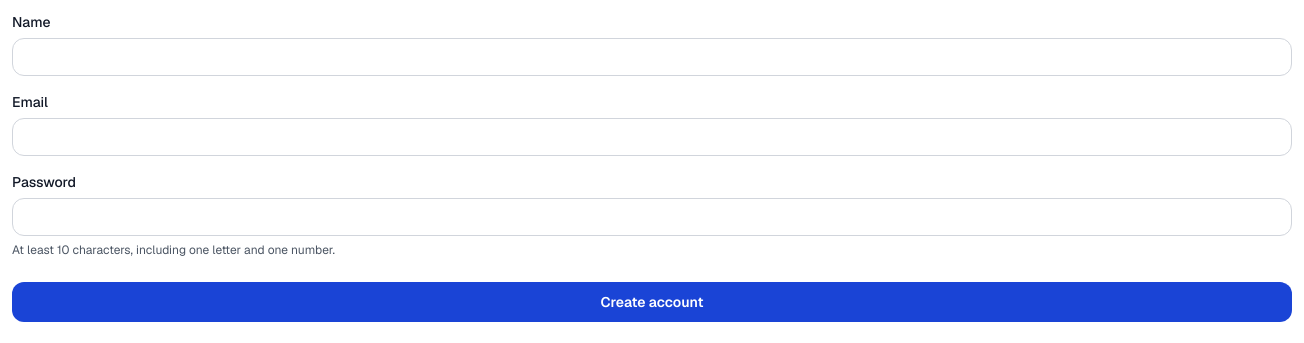
Test: RegisterForm › AC37: blocks submission and shows field errors when the password is too weak
The image size is (1304, 343).
Type "Ada Lovelace" into the field labelled "Name" at (652, 57), box [12, 38, 1292, 76]
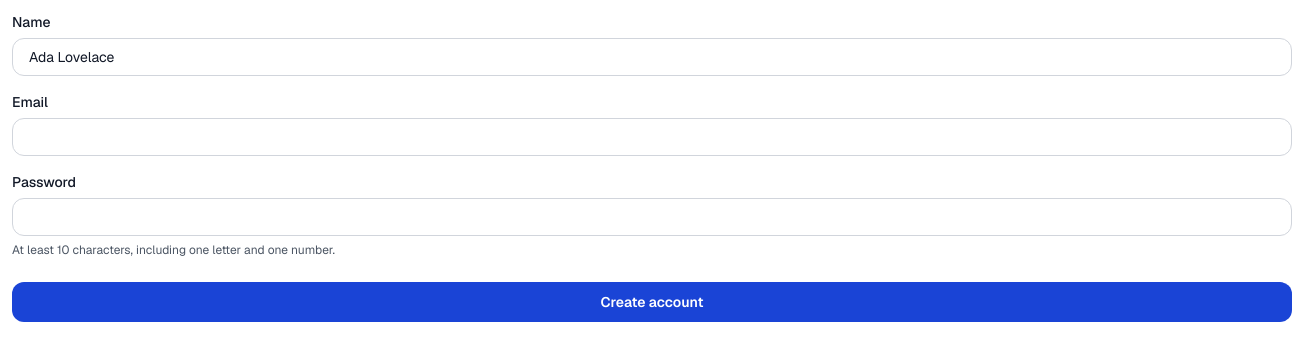
Type "ada@example.com" into the field labelled "Email" at (652, 137), box [12, 118, 1292, 156]
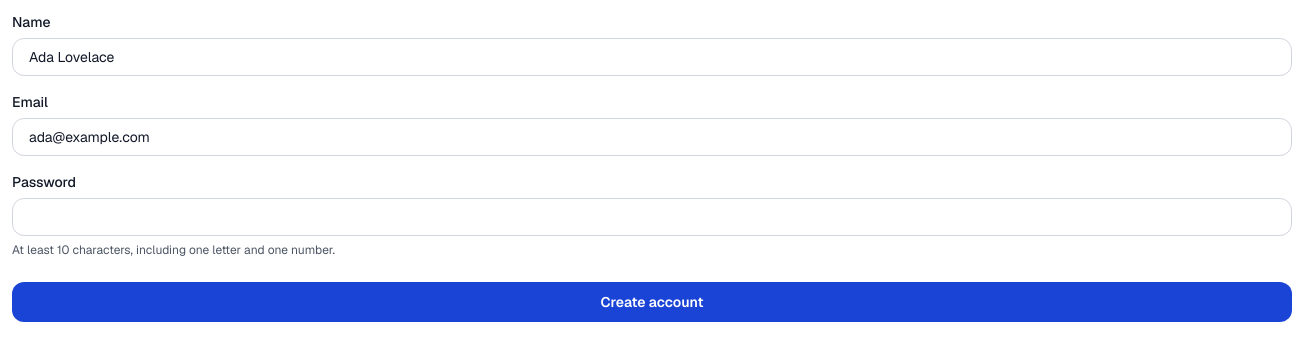
Type "short" into the password field labelled "Password" at (652, 217), box [12, 198, 1292, 236]
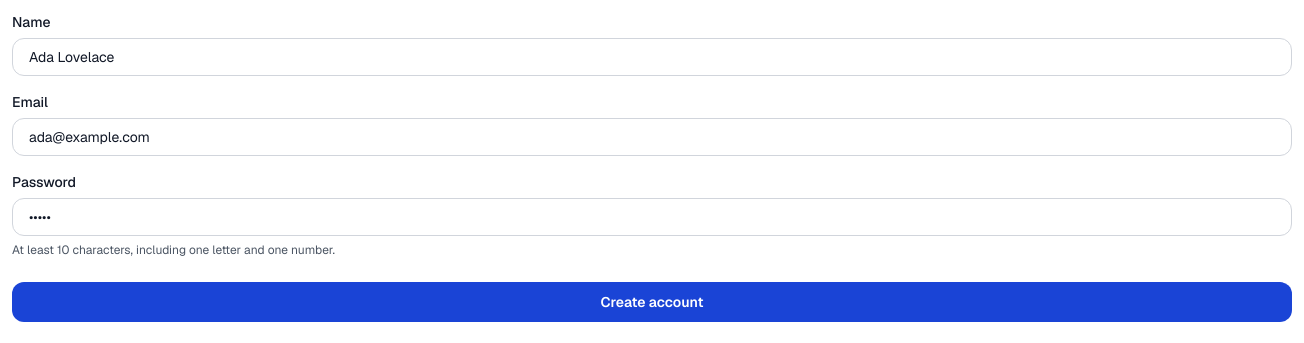
Click the button "Create account" at (652, 302), box [12, 282, 1292, 322]
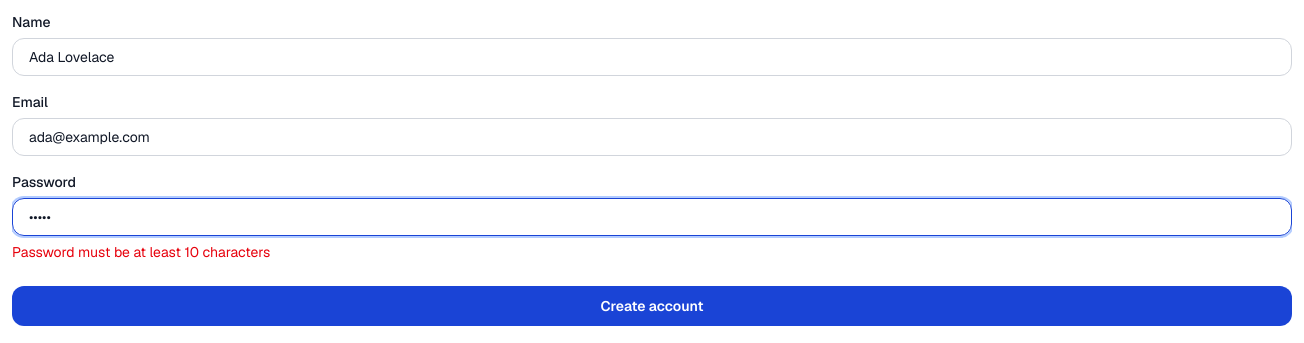
Check: the text "Password must be at least 10 characters" is shown, box [12, 243, 270, 261]
